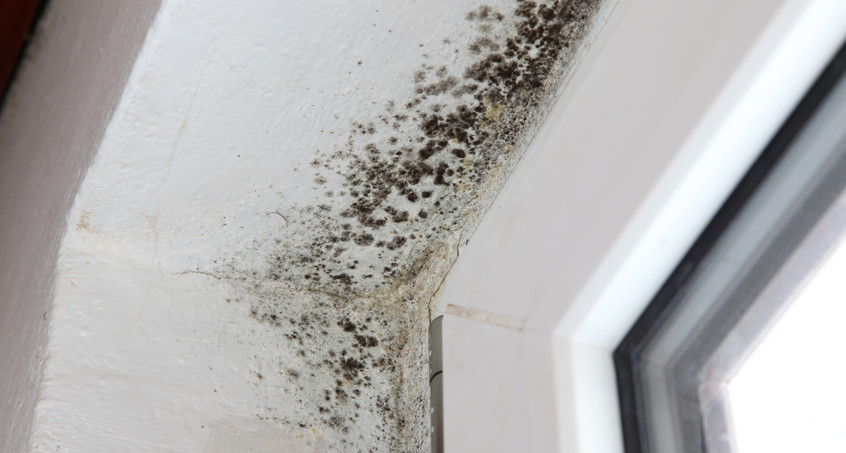schimmel: (338, 120, 441, 263), (286, 307, 394, 443), (424, 22, 558, 94), (446, 99, 497, 177), (281, 252, 356, 294)
